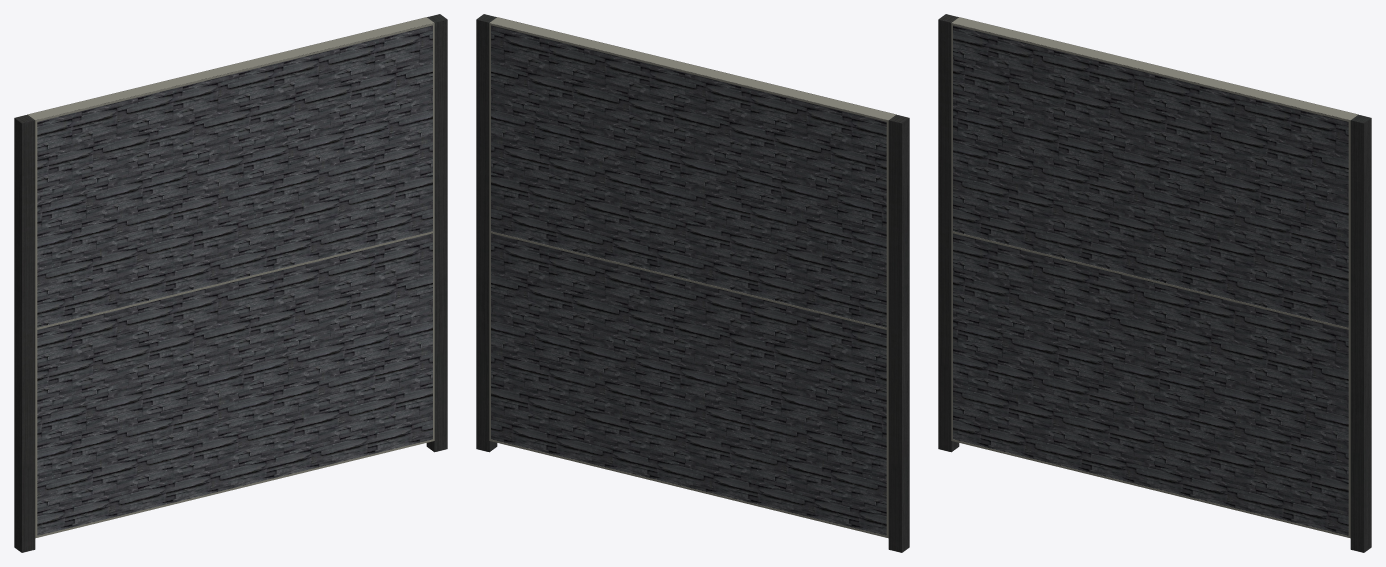
Rendered from ABF3-H1800_randomstoneblack.fbx.
3 views of the same model, side by side, from view 1: azimuth 30°, elevation 25°; view 2: azimuth 150°, elevation 25°; view 3: azimuth 330°, elevation 25° (orthographic).
Parts seen in each view (by area): view 1: 1850-1920-60_randomstone black; view 2: 1850-1920-60_randomstone black; view 3: 1850-1920-60_randomstone black.
Boxes of the visible parts, left/top/right/bottom form: 1850-1920-60_randomstone black: left=14, top=14, right=447, bottom=552; 1850-1920-60_randomstone black: left=476, top=14, right=909, bottom=552; 1850-1920-60_randomstone black: left=938, top=14, right=1371, bottom=552.
Size of the model in its own units: 192 by 185 by 6.4.
Materials: 5 (4 with a texture image).
